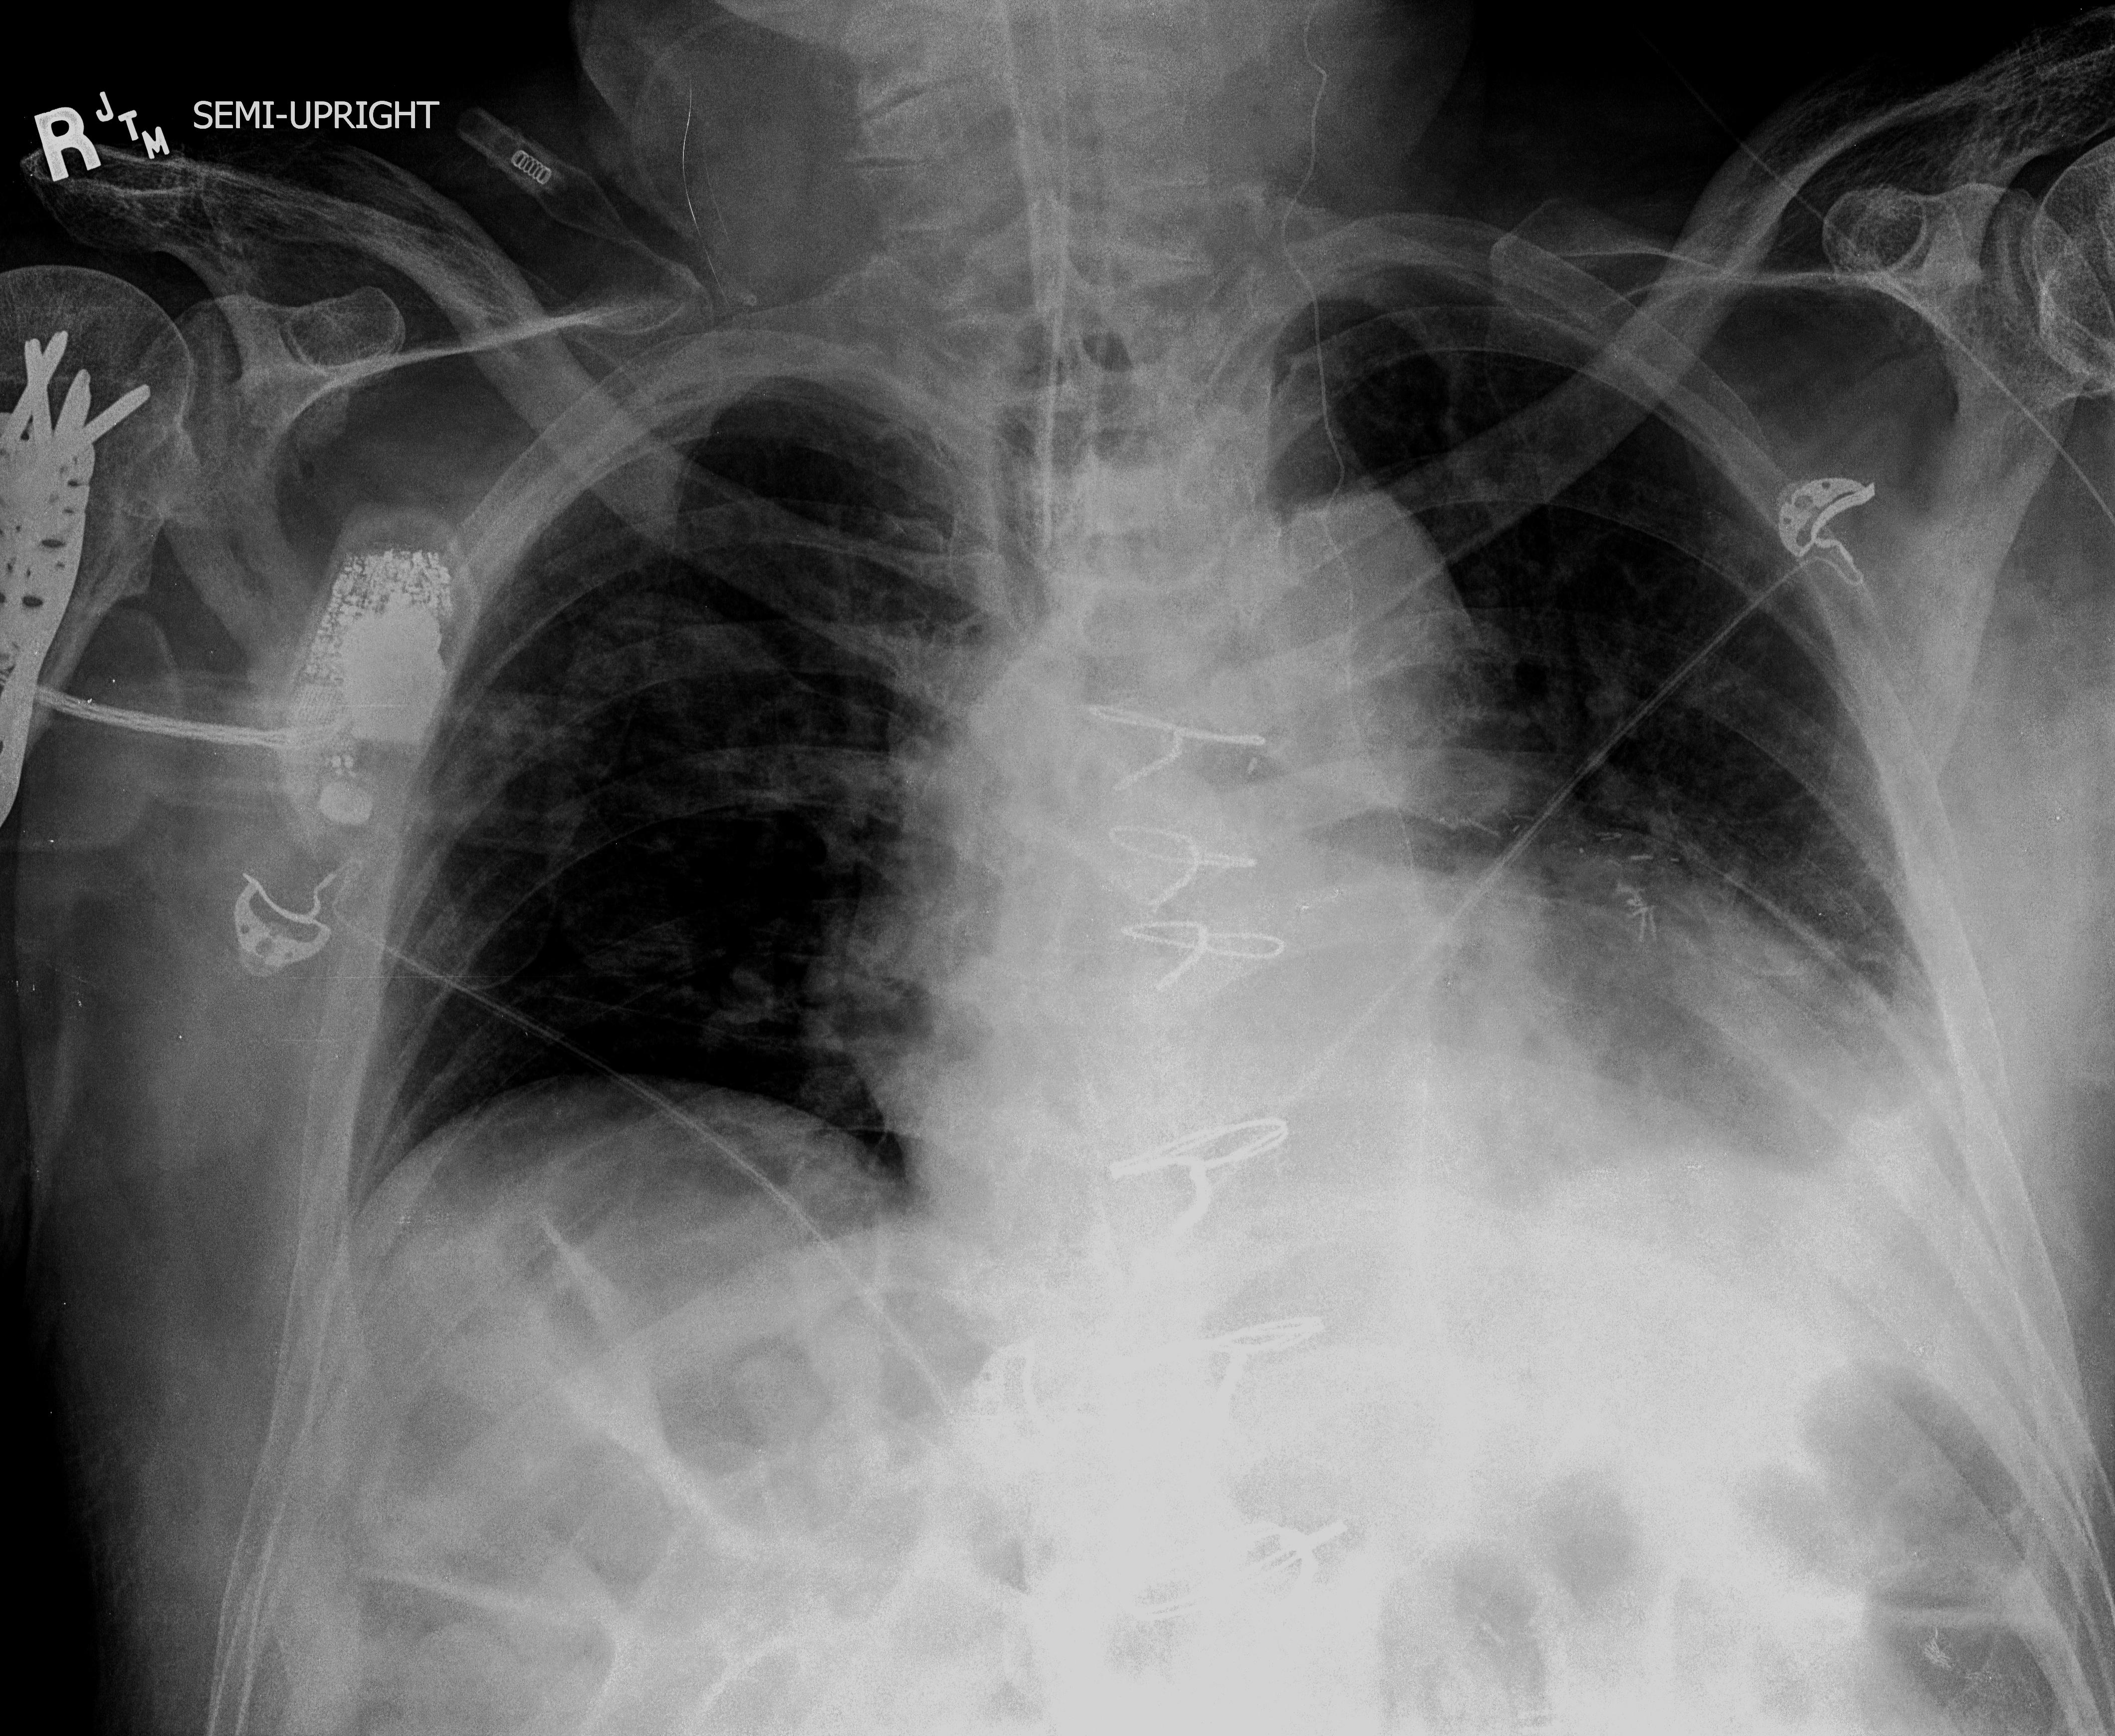Pleural Effusion: (1539, 889, 2052, 1457)
